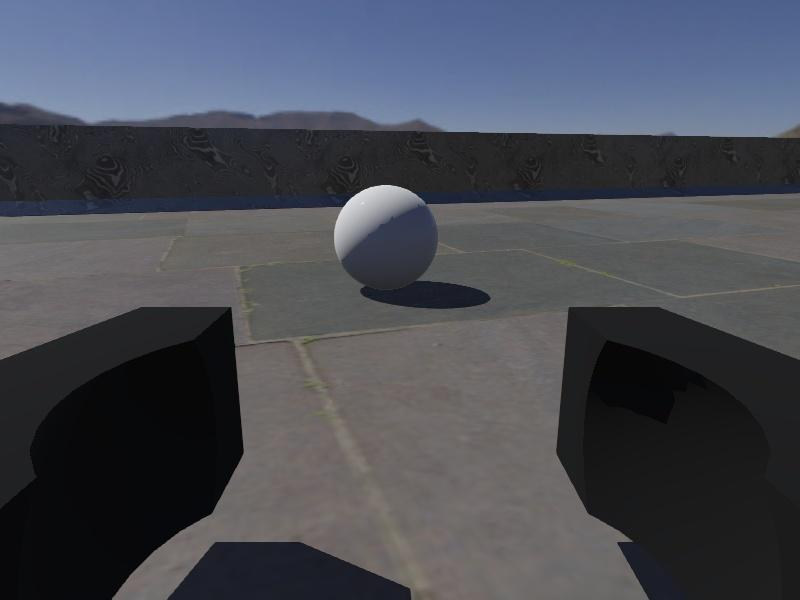white ball: (332, 182, 440, 292)
